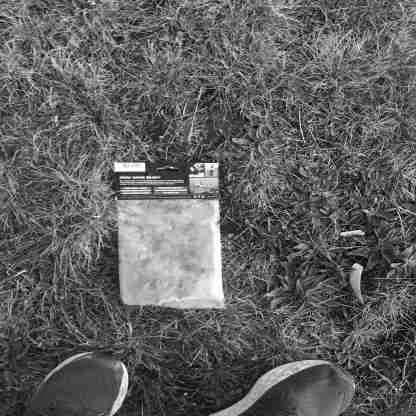plastic: (113, 159, 226, 309)
